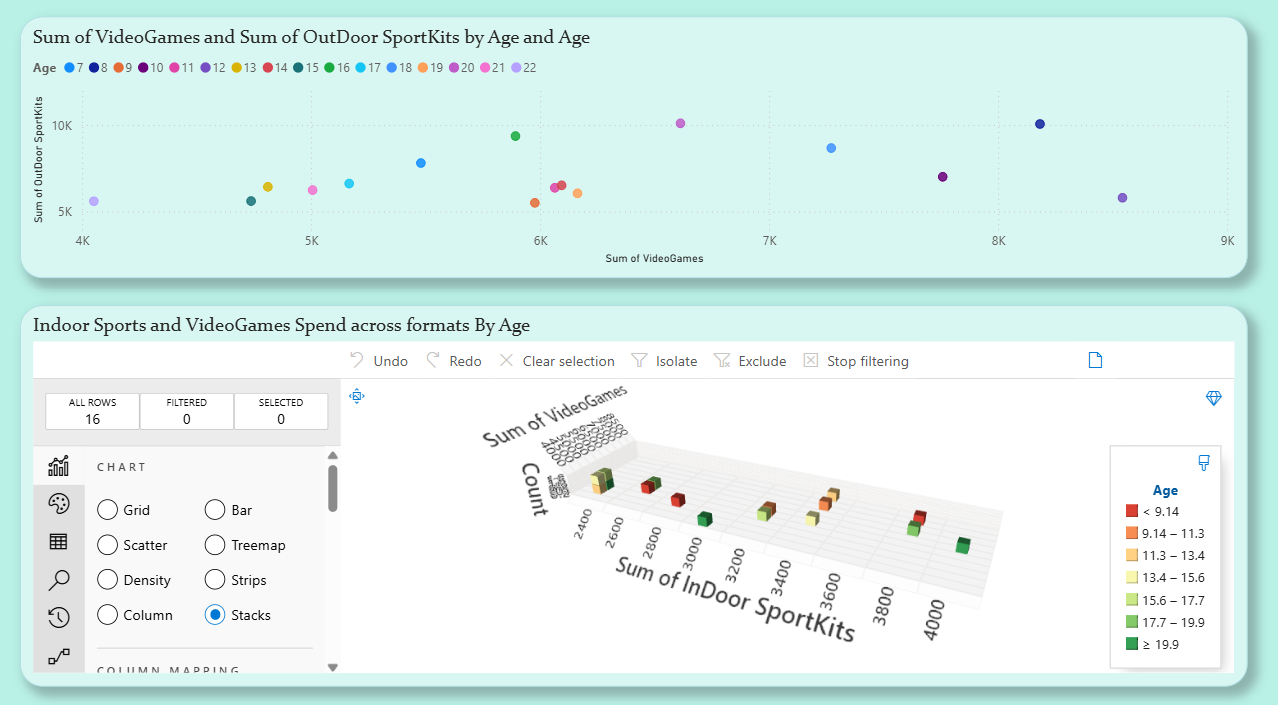

The page's visual inventory and layout, read from the dashboard file:
{"tool":"powerbi","page":{"name":"Page 2","canvas":[1280,720],"ordinal":1},"visuals":[{"type":"scatterChart","fields":{"X":["Sum(Student Survey.VideoGames)"],"Y":["Sum(Student Survey.OutDoor SportKits)"],"Category":["Student Survey.Age"],"Series":["Student Survey.Age"]},"box":[43.9,37,1197.9,255.2],"z":0},{"type":"SandDance201929976D117A654D0BAB8E96507442D80B","title":"Indoor Sports and VideoGames Spend across formats By Age","fields":{"values":["Sum(Student Survey.InDoor SportKits)","Student Survey.Age","Sum(Student Survey.VideoGames)"]},"box":[43.9,318.4,1197.9,371.9],"z":1000}]}

Visuals, with their boxes in screenshot pixels (x1, y1, x2, y2), scaled from the page's 1280x720 canvas onto the 1278x705 screenshot:
scatterChart - Sum(Student Survey.VideoGames) x Sum(Student Survey.OutDoor SportKits): x1=44, y1=36, x2=1240, y2=286
"Indoor Sports and VideoGames Spend across formats By Age" SandDance201929976D117A654D0BAB8E96507442D80B: x1=44, y1=312, x2=1240, y2=676
